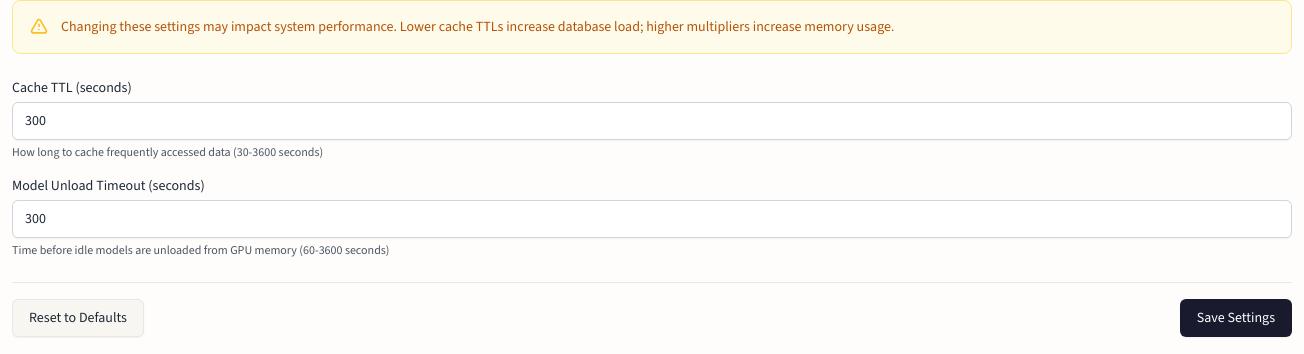
Test: PerformanceSettings › form interactions › updates model unload timeout input
Click the number field below "Model Unload Timeout (seconds)" at (652, 219), box [12,200,1292,238]
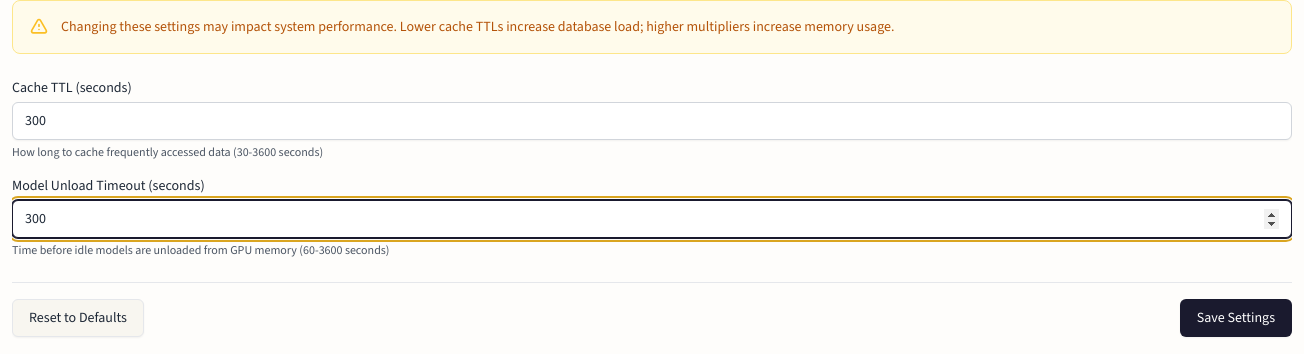
Type keys "600"
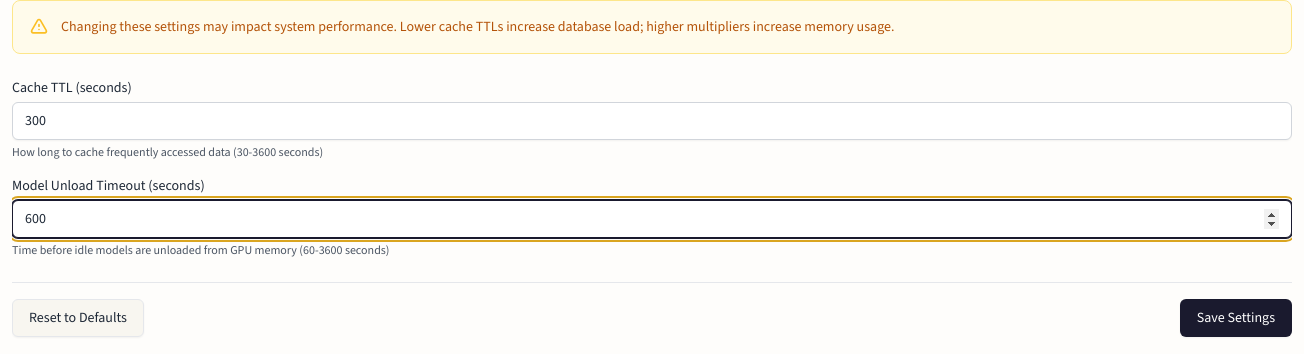
Expected: the number field below "Model Unload Timeout (seconds)" holds "600", [12,200,1292,238]
